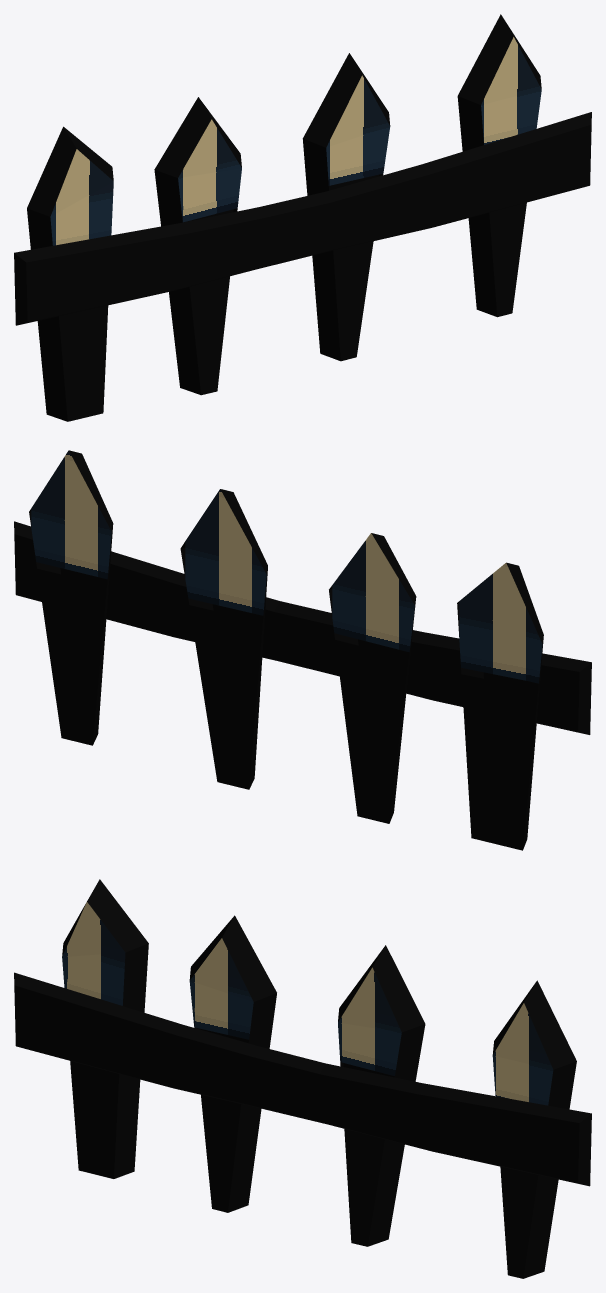
File: Fence_01.fbx
3 renders of one model, top to bottom at view 1: azimuth 30°, elevation 25°; view 2: azimuth 150°, elevation 25°; view 3: azimuth 330°, elevation 25°, orthographic.
Visible parts, largest first — view 1: Fence_01; view 2: Fence_01; view 3: Fence_01.
Boxes of the visible parts, x1=… form: Fence_01: x1=14, y1=14, x2=591, y2=421; Fence_01: x1=14, y1=450, x2=591, y2=850; Fence_01: x1=14, y1=879, x2=591, y2=1278.
Size of the model in its own units: 1.68 by 0.8212 by 0.1218.
